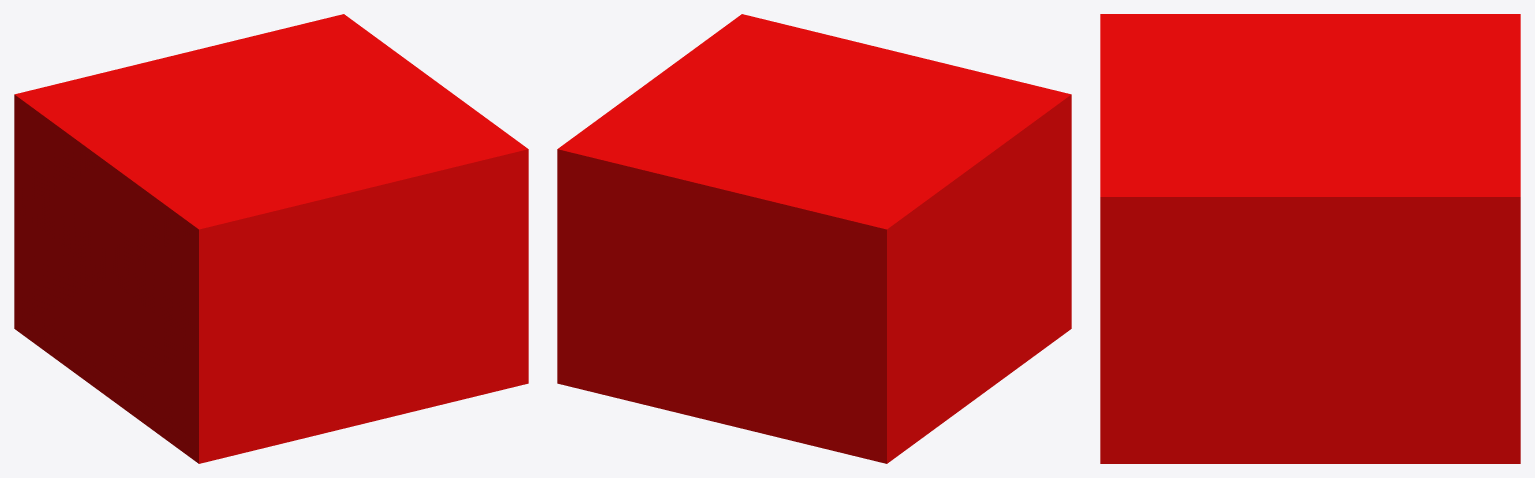
The model's file is hamate_lvs_col.dae.
The picture shows the model from 3 angles, left to right: view 1: azimuth 30°, elevation 25°; view 2: azimuth 150°, elevation 25°; view 3: azimuth 270°, elevation 25°; orthographic projection. The views are drawn at different scales.
Parts seen in each view (by area): view 1: node0; view 2: node0; view 3: node0.
Part boxes in pixels (x1,y1,x2,y2): node0: (14, 14, 528, 463); node0: (557, 14, 1071, 463); node0: (1100, 14, 1520, 463).
Size of the model in its own units: 0.025 by 0.017 by 0.0243.
